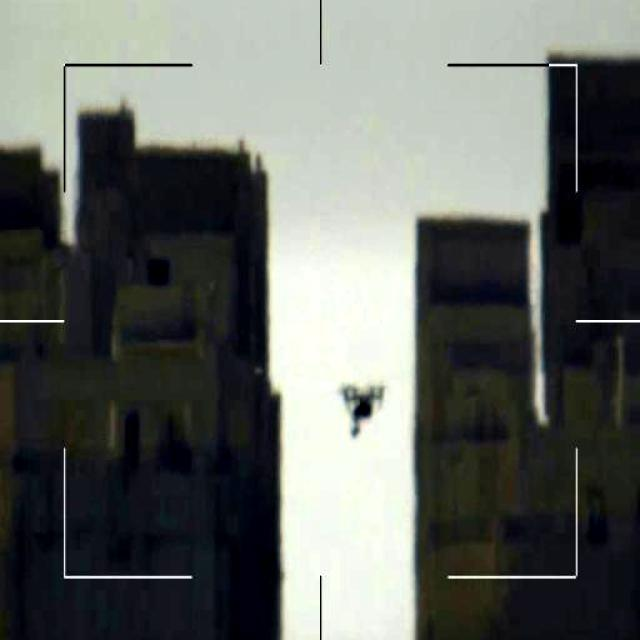bird: (336, 371, 394, 439)
